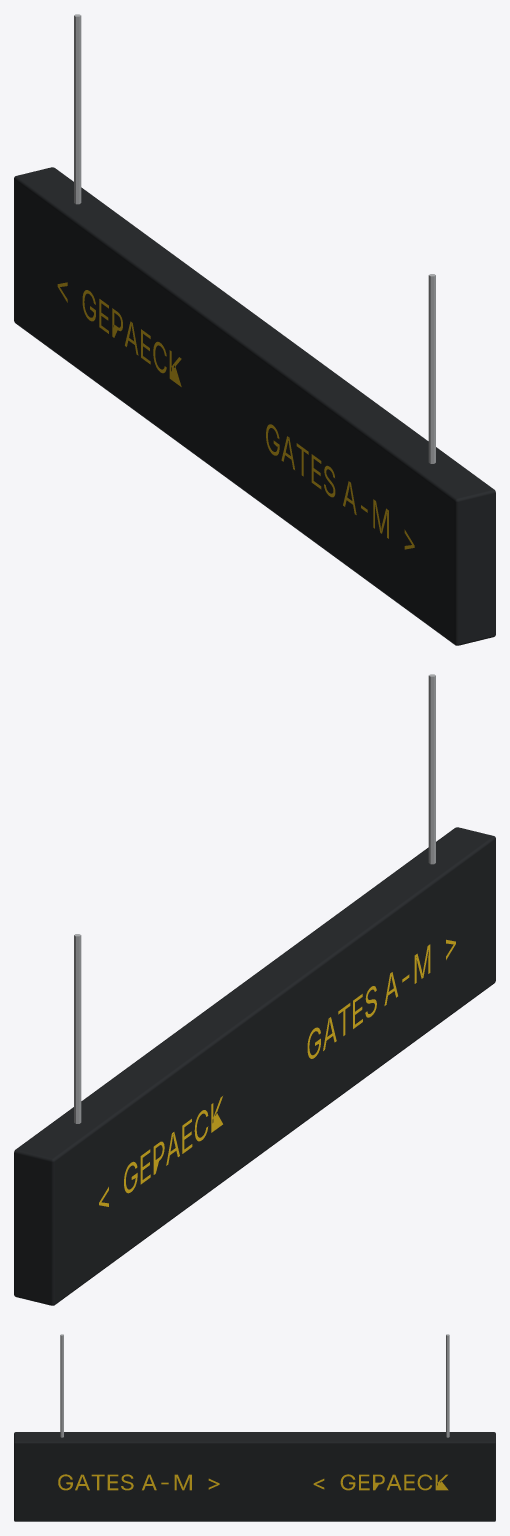
The model's file is sign_36_b.glb.
The picture shows the model from 3 angles, top to bottom: view 1: azimuth 30°, elevation 25°; view 2: azimuth 150°, elevation 25°; view 3: azimuth 270°, elevation 25°; orthographic projection. The views are drawn at different scales.
Parts seen in each view (by area): view 1: kasten, pendel1, pendel-1, z-1-0.72, z-10.78; view 2: kasten, pendel-1, pendel1, z-1-0.72, z-10.78; view 3: kasten, z1-0.72, z10.78, pendel-1, pendel1.
Boxes of the visible parts, left/top/right/bottom form: kasten: left=14, top=167, right=495, bottom=645; pendel1: left=74, top=14, right=81, bottom=204; pendel-1: left=428, top=274, right=435, bottom=463; z-1-0.72: left=266, top=424, right=414, bottom=549; z-10.78: left=57, top=282, right=181, bottom=386; kasten: left=14, top=827, right=495, bottom=1305; pendel-1: left=428, top=674, right=435, bottom=864; pendel1: left=74, top=934, right=81, bottom=1123; z-1-0.72: left=307, top=939, right=455, bottom=1058; z-10.78: left=99, top=1096, right=222, bottom=1206; kasten: left=14, top=1432, right=495, bottom=1521; z1-0.72: left=58, top=1474, right=219, bottom=1490; z10.78: left=313, top=1474, right=448, bottom=1490; pendel-1: left=60, top=1334, right=63, bottom=1437; pendel1: left=446, top=1334, right=449, bottom=1437.
Bounding box in the file's own units: 0.162 × 1.25 × 3.
